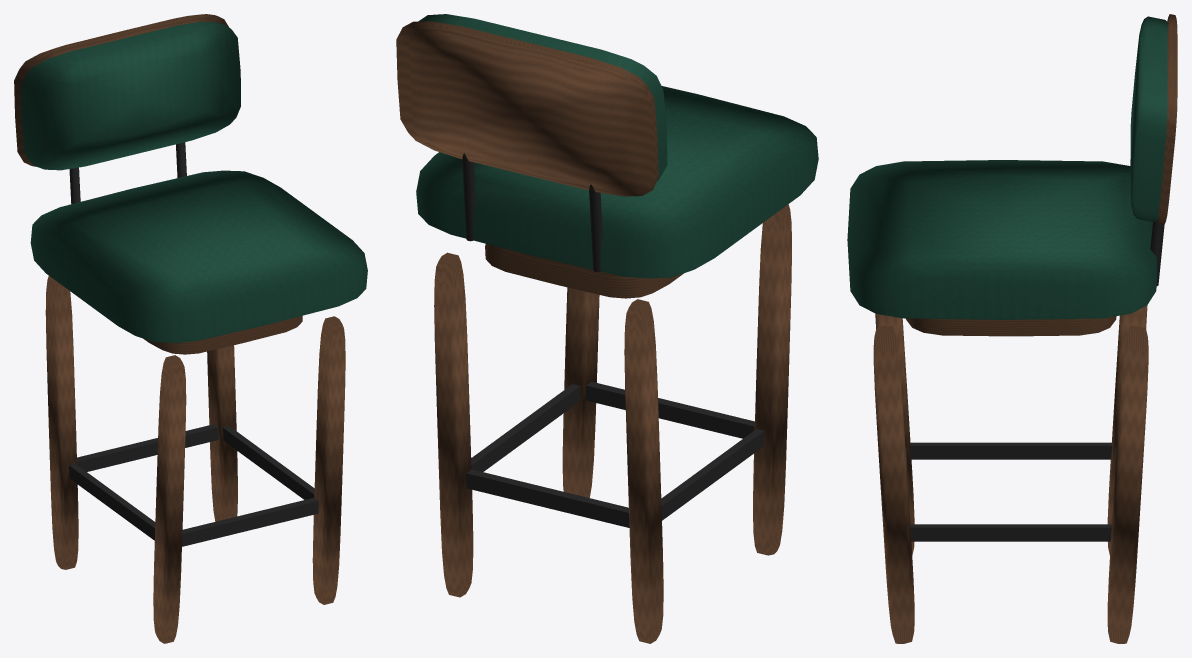
3 views of the same model, side by side, from view 1: azimuth 30°, elevation 25°; view 2: azimuth 150°, elevation 25°; view 3: azimuth 270°, elevation 25° (orthographic). The views are drawn at different scales.
Parts seen in each view (by area): view 1: 1 seat, 2 backrest, 8 leg_front_left, 9 leg_front_right, 10 leg_back_left, 11 leg_back_right, 3 backrest_wood_panel, 12 footrest_front, 13 footrest_back, 7 leg_top_frame, 15 footrest_right, 14 footrest_left; view 2: 1 seat, 3 backrest_wood_panel, 10 leg_back_left, 11 leg_back_right, 8 leg_front_left, 9 leg_front_right, 7 leg_top_frame, 2 backrest, 13 footrest_back, 12 footrest_front, 15 footrest_right, 14 footrest_left (+2 smaller); view 3: 1 seat, 11 leg_back_right, 9 leg_front_right, 2 backrest, 14 footrest_left, 15 footrest_right, 7 leg_top_frame, 3 backrest_wood_panel, 10 leg_back_left, 8 leg_front_left, 5 backrest_support_right.
Boxes of the visible parts, x1,y1,x2,y2 form: 1 seat: (30, 170, 367, 342); 2 backrest: (21, 21, 240, 170); 8 leg_front_left: (153, 355, 186, 643); 9 leg_front_right: (312, 316, 345, 604); 10 leg_back_left: (45, 276, 78, 569); 11 leg_back_right: (207, 345, 237, 521); 3 backrest_wood_panel: (14, 14, 228, 166); 12 footrest_front: (182, 497, 318, 546); 13 footrest_back: (77, 424, 218, 471); 7 leg_top_frame: (143, 316, 302, 354); 15 footrest_right: (223, 426, 314, 499); 14 footrest_left: (69, 464, 155, 540); 1 seat: (416, 86, 818, 278); 3 backrest_wood_panel: (396, 21, 658, 196); 10 leg_back_left: (624, 299, 663, 643); 11 leg_back_right: (434, 252, 473, 597); 8 leg_front_left: (753, 204, 791, 555); 9 leg_front_right: (562, 287, 599, 497); 7 leg_top_frame: (485, 244, 683, 298); 2 backrest: (418, 14, 667, 181); 13 footrest_back: (466, 469, 629, 527); 12 footrest_front: (585, 381, 754, 438); 15 footrest_right: (471, 384, 580, 471); 14 footrest_left: (661, 429, 764, 520); 1 seat: (847, 160, 1156, 319); 11 leg_back_right: (1107, 326, 1148, 643); 9 leg_front_right: (873, 326, 914, 643); 2 backrest: (1130, 16, 1167, 222); 14 footrest_left: (910, 442, 1111, 459); 15 footrest_right: (910, 524, 1111, 541); 7 leg_top_frame: (906, 316, 1116, 336); 3 backrest_wood_panel: (1157, 14, 1177, 224); 10 leg_back_left: (1107, 305, 1147, 554); 8 leg_front_left: (875, 313, 914, 554); 5 backrest_support_right: (1150, 221, 1164, 285).
Bounding box in the file's own units: 0.5 × 1 × 0.55.
3 materials, 2 textured.
